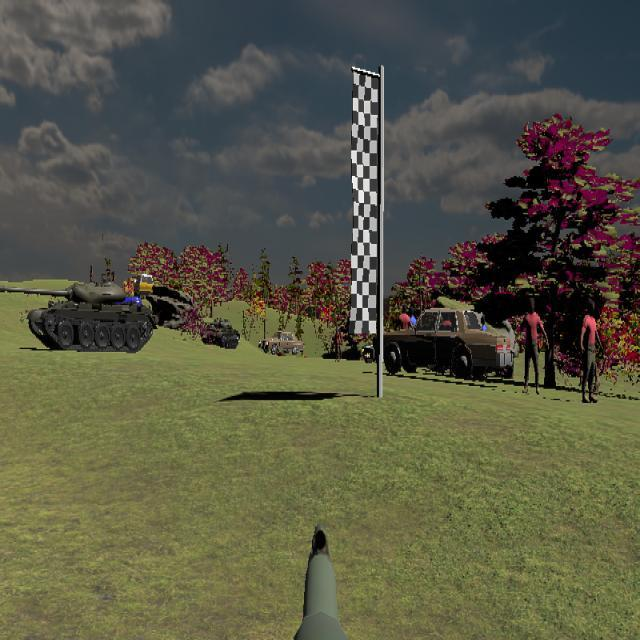Human: (518, 297, 548, 394), (580, 297, 604, 402)
Tank: (1, 281, 155, 354), (201, 317, 241, 349)
car: (376, 307, 516, 379), (258, 331, 304, 356), (133, 273, 153, 298)
